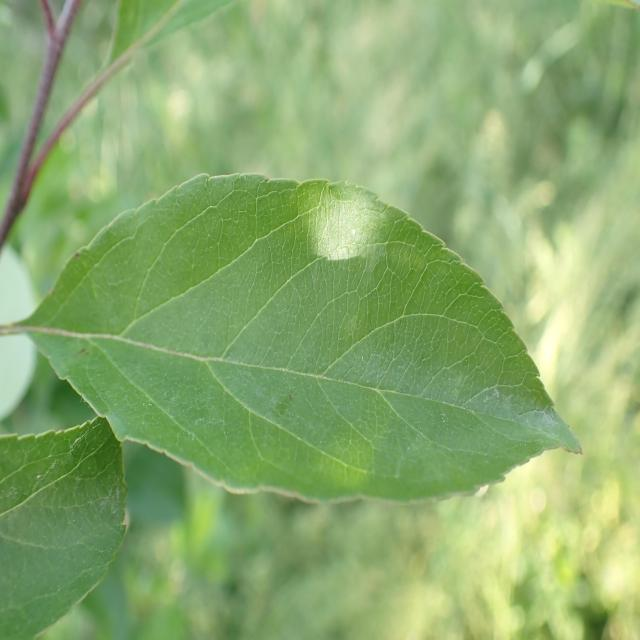healthy: (27, 172, 584, 507), (0, 414, 130, 640)
